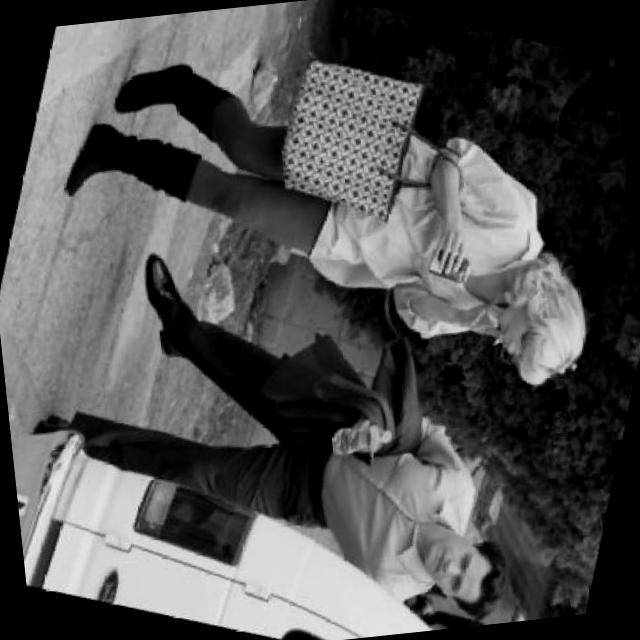smoke: (488, 328, 507, 348)
